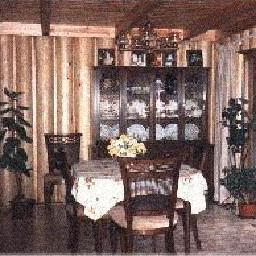Matera: (1, 88, 34, 219), (227, 100, 251, 219)
